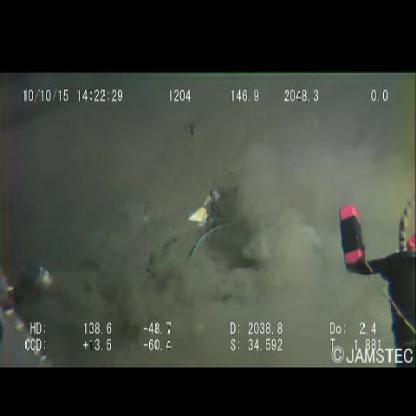Rác: (187, 187, 223, 264)
